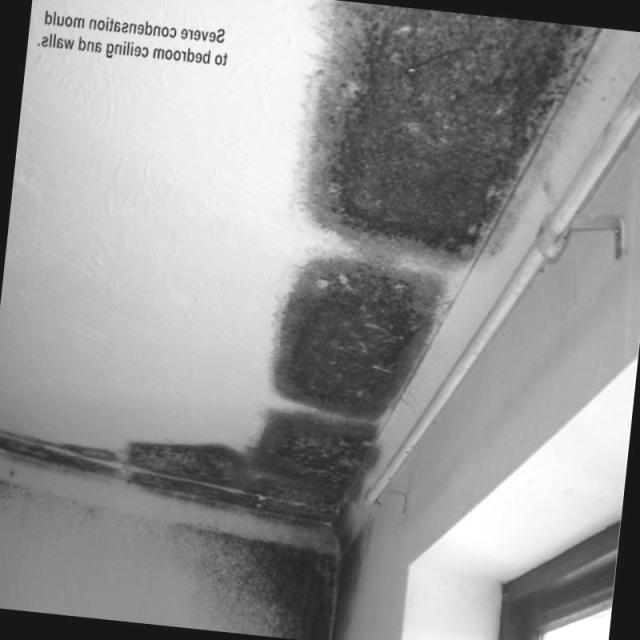stain marks: (185, 0, 596, 636)
